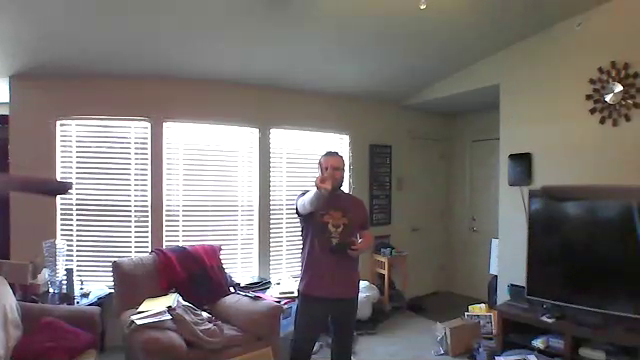peace: (311, 155, 336, 196)
